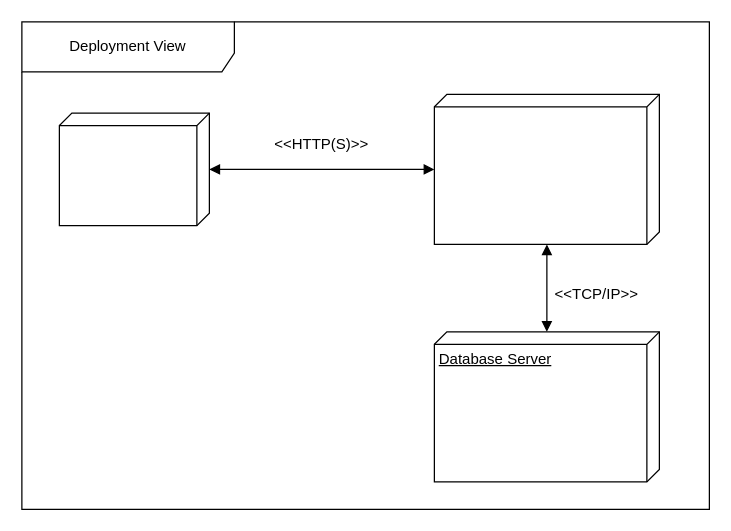
This 731x531 diagram has some shape labels left out. Here are the shapes that lost their labels. From the top down, the centre of each, then its label:
the point at 133,169: Web Browser (Client)
the point at 546,168: Web Server
